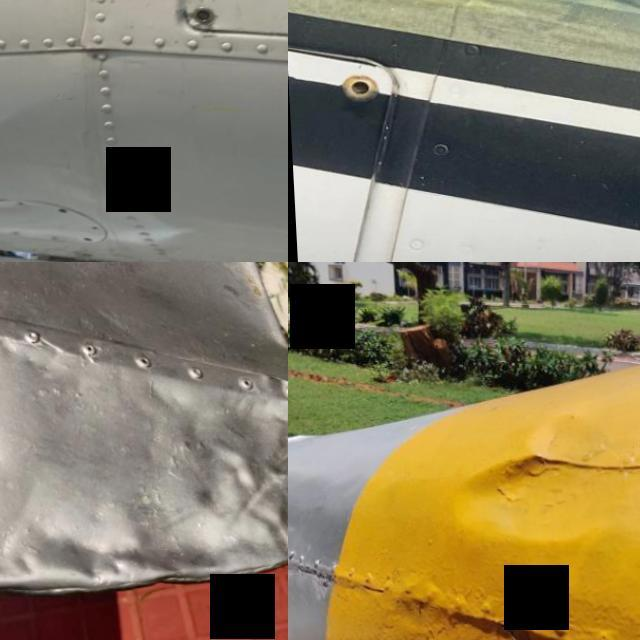Dent: (432, 423, 616, 571), (0, 496, 200, 614), (161, 398, 288, 558)
Missing_Fastener: (338, 75, 377, 103), (52, 208, 62, 214)
